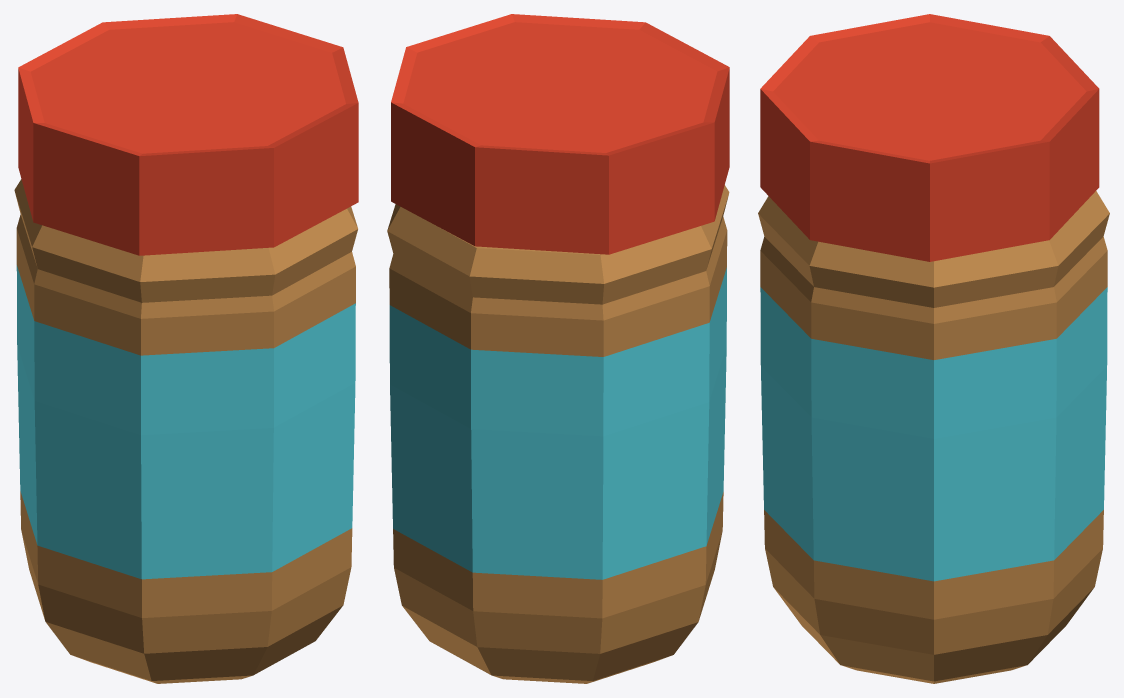
Rendered from peanut-butter.fbx.
The picture shows the model from 3 angles, left to right: view 1: azimuth 30°, elevation 25°; view 2: azimuth 150°, elevation 25°; view 3: azimuth 270°, elevation 25°; orthographic projection.
Visible parts, largest first — view 1: Cylinder; view 2: Cylinder; view 3: Cylinder.
Boxes of the visible parts, box(x1,y1,x2,y2) form: Cylinder: box(14, 14, 358, 683); Cylinder: box(387, 14, 729, 683); Cylinder: box(758, 14, 1109, 683).
Size of the model in its own units: 313 by 536 by 312.
